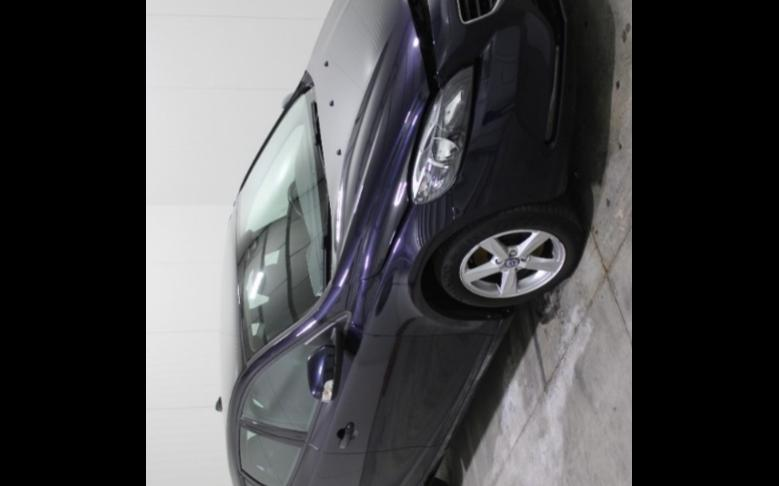Broken part: (372, 0, 441, 276), (442, 52, 484, 176)
Flaking: (436, 422, 456, 456), (476, 352, 492, 382)
Scratch: (452, 206, 456, 220)
